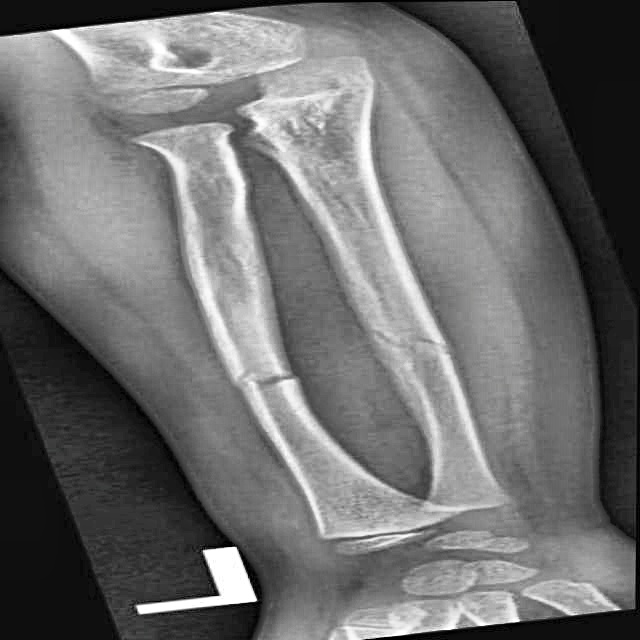Oblique Displaced: (347, 297, 466, 375)
Transverse Displaced: (209, 350, 307, 408)
